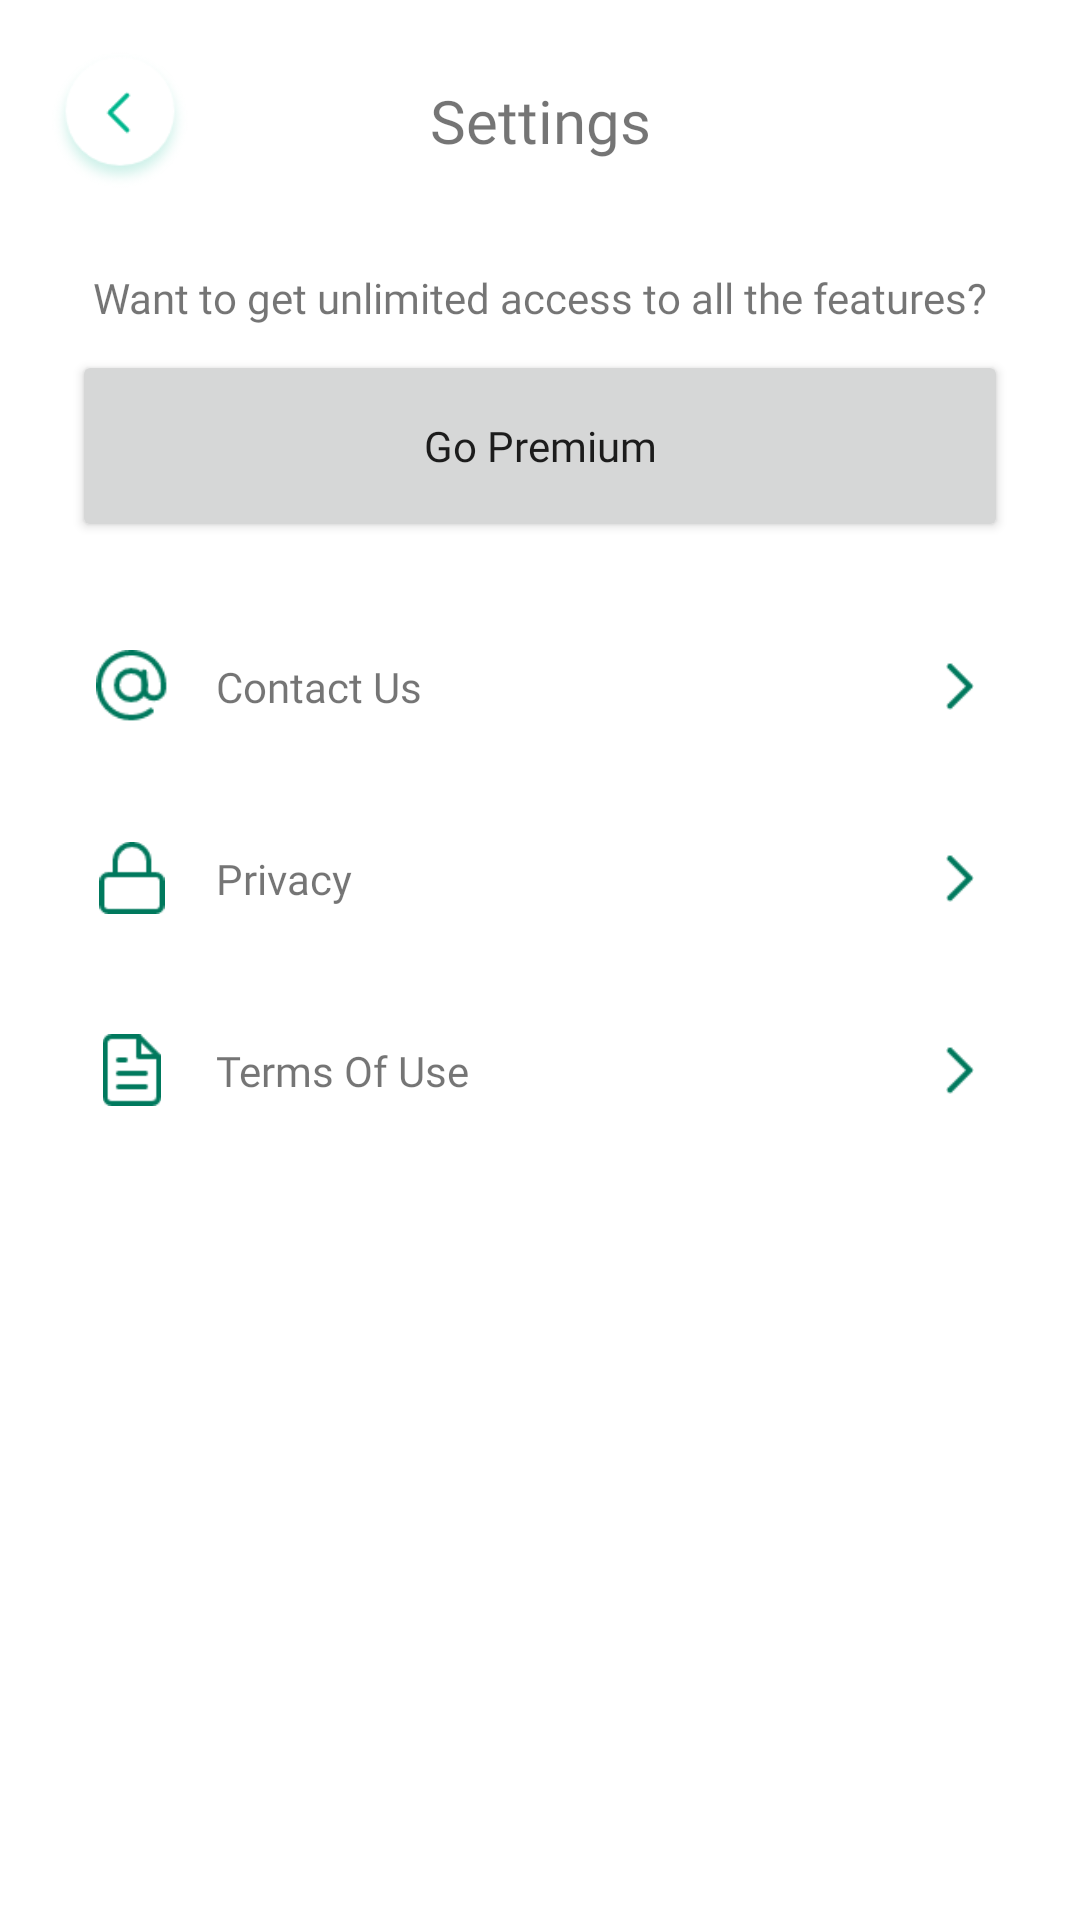

Icons on this 1080x1920 Android screen, each with the point to tap as [x,y]:
atsign: [131,685]
back: [120,133]
lock: [132,878]
